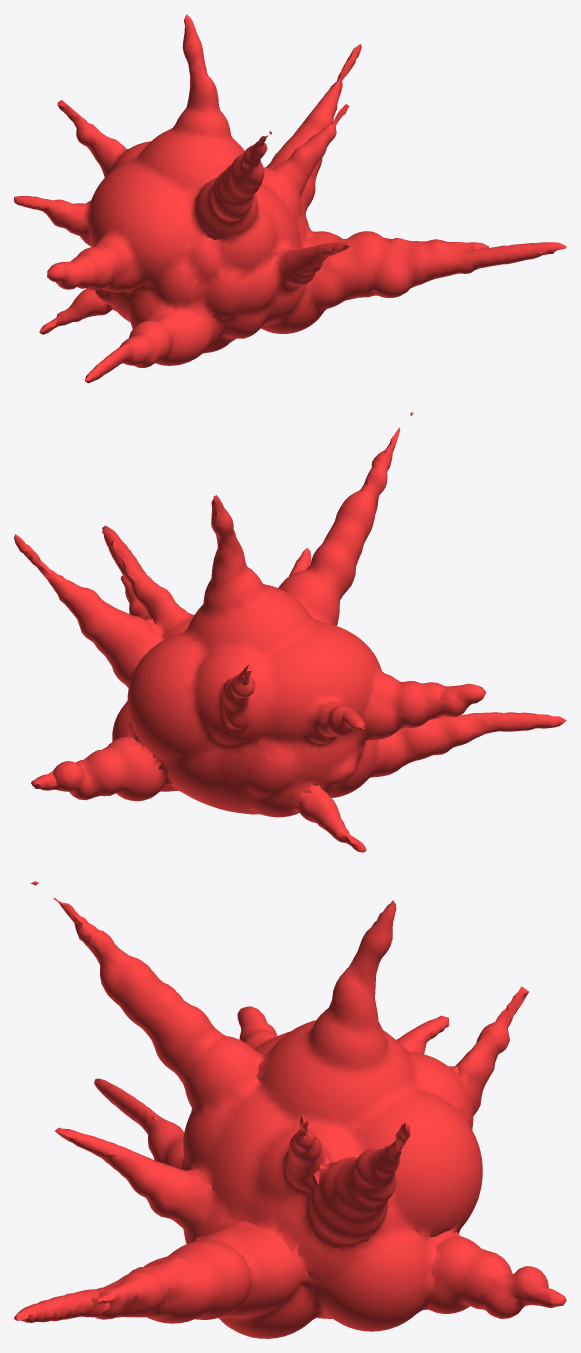
3 renders of one model, top to bottom at view 1: azimuth 30°, elevation 25°; view 2: azimuth 150°, elevation 25°; view 3: azimuth 270°, elevation 25°, orthographic. The views are drawn at different scales.
Parts seen in each view (by area): view 1: Geode; view 2: Geode; view 3: Geode.
Part boxes in pixels (x1,y1,x2,y2): Geode: [14, 14, 566, 383]; Geode: [14, 412, 566, 852]; Geode: [14, 881, 566, 1338].
Size of the model in its own units: 70.91 by 43.97 by 54.98.
